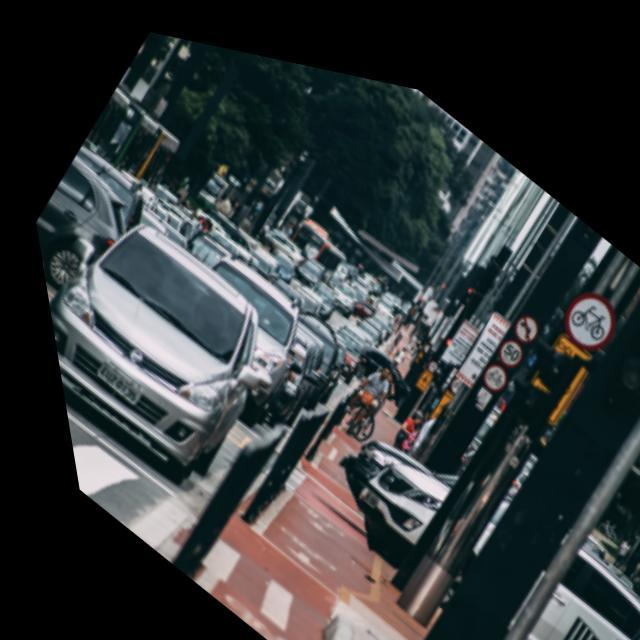license_plate: (65, 336, 150, 422)
